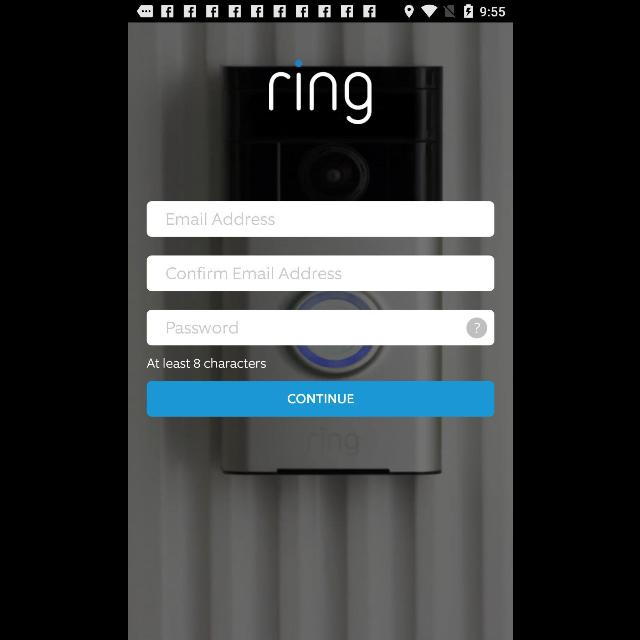backgroundimage: (128, 22, 512, 640)
icon: (466, 317, 486, 338)
image: (268, 59, 372, 124)
input: (146, 201, 494, 237), (146, 255, 494, 291), (146, 310, 494, 346)
text: (165, 266, 341, 280), (166, 212, 274, 225), (147, 358, 266, 368), (166, 322, 238, 334)
textbutton: (146, 381, 494, 417)
uppertaskbar: (128, 1, 512, 23)
